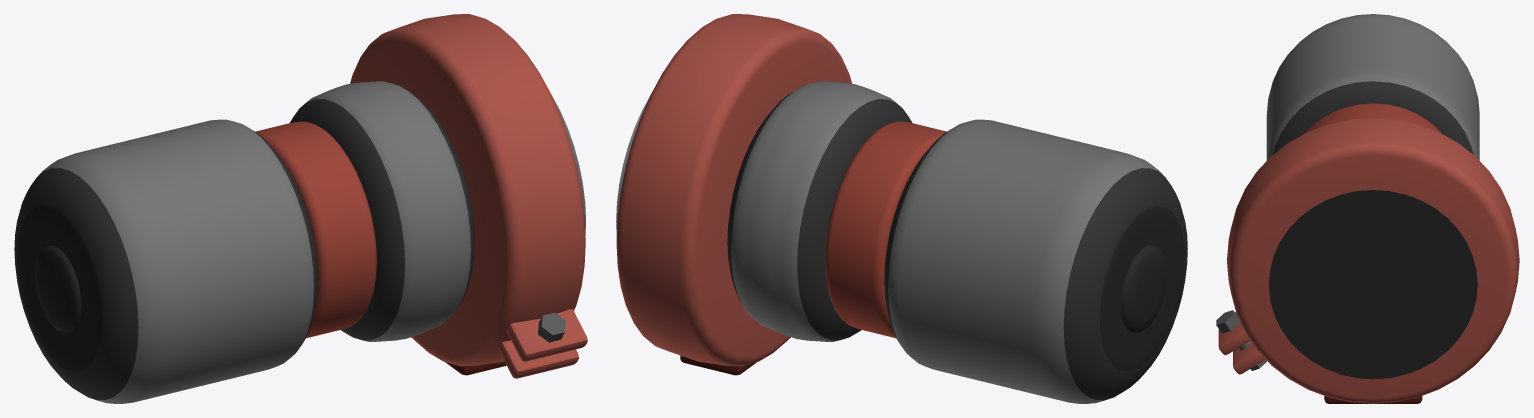
The model's file is rod_butt.glb.
3 renders of one model, left to right at view 1: azimuth 30°, elevation 25°; view 2: azimuth 150°, elevation 25°; view 3: azimuth 270°, elevation 25°, orthographic. The views are drawn at different scales.
Visible parts, largest first — view 1: bead0.001, collar0.001, bead1.001, band0.001, end_boss.001, collar0_ear1.001, collar0_ear0.001, collar0_nut+1.001; view 2: bead0.001, collar0.001, bead1.001, band0.001, end_boss.001, collar0_foot.001; view 3: collar0.001, bead2.001, bead0.001, core.001, band0.001, collar0_ear1.001, collar0_ear0.001, collar0_nut+1.001, collar0_foot.001.
Part boxes in pixels (bbox=[...]): bead0.001: bbox=[14, 119, 317, 403]; collar0.001: bbox=[350, 14, 585, 366]; bead1.001: bbox=[290, 81, 474, 341]; band0.001: bbox=[255, 121, 376, 338]; end_boss.001: bbox=[34, 245, 81, 332]; collar0_ear1.001: bbox=[506, 309, 587, 361]; collar0_ear0.001: bbox=[497, 340, 578, 378]; collar0_nut+1.001: bbox=[538, 312, 565, 342]; bead0.001: bbox=[884, 119, 1187, 403]; collar0.001: bbox=[616, 14, 851, 366]; bead1.001: bbox=[727, 81, 912, 341]; band0.001: bbox=[825, 121, 946, 338]; end_boss.001: bbox=[1121, 245, 1167, 332]; collar0_foot.001: bbox=[680, 337, 790, 375]; collar0.001: bbox=[1227, 117, 1519, 403]; bead2.001: bbox=[1268, 190, 1477, 379]; bead0.001: bbox=[1266, 14, 1479, 160]; core.001: bbox=[1306, 224, 1440, 345]; band0.001: bbox=[1304, 103, 1441, 133]; collar0_ear1.001: bbox=[1218, 312, 1250, 354]; collar0_ear0.001: bbox=[1233, 342, 1265, 374]; collar0_nut+1.001: bbox=[1216, 310, 1239, 333]; collar0_foot.001: bbox=[1324, 396, 1422, 403].
Bounding box in the file's own units: 24 × 15.54 × 16.1.
